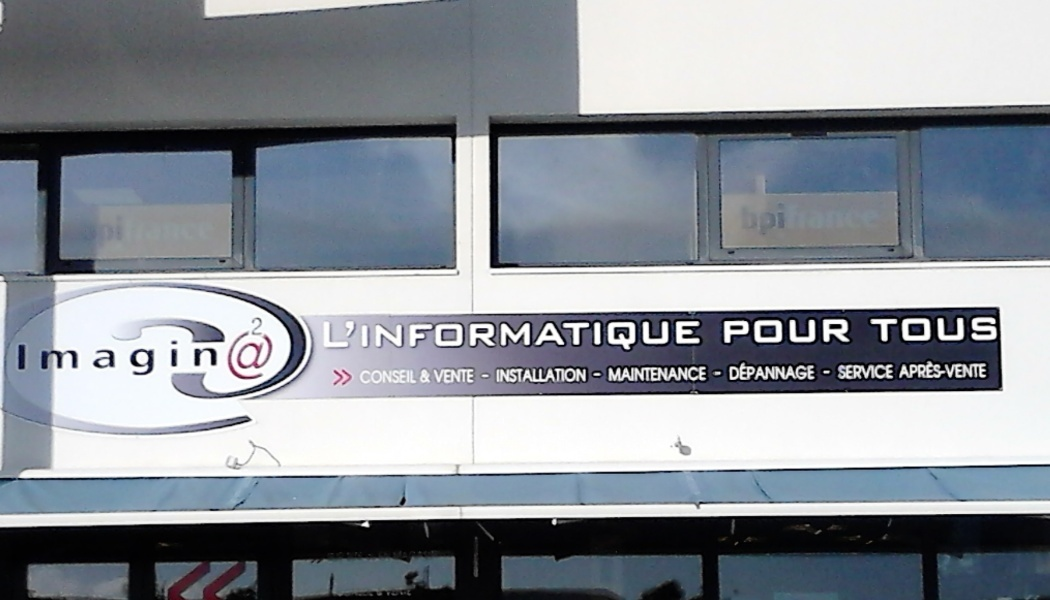text: (241, 333, 256, 385), (257, 333, 272, 385), (226, 333, 240, 385), (753, 196, 768, 238), (769, 196, 784, 238), (785, 196, 800, 238), (801, 196, 816, 238), (817, 196, 832, 238), (833, 196, 848, 238), (849, 196, 864, 238), (865, 196, 880, 238), (17, 341, 32, 381), (33, 341, 48, 381), (49, 341, 64, 381), (65, 341, 80, 381), (81, 341, 96, 381), (97, 341, 112, 381), (113, 341, 128, 381), (129, 341, 144, 381), (145, 341, 160, 381), (161, 341, 176, 381), (177, 341, 192, 381), (193, 341, 208, 381), (738, 196, 752, 238), (321, 316, 336, 351), (337, 316, 352, 351), (353, 316, 368, 351), (369, 316, 384, 351), (385, 316, 400, 351), (401, 316, 416, 351), (417, 316, 432, 351), (433, 316, 448, 351), (449, 316, 464, 351), (465, 316, 480, 351), (481, 316, 496, 351), (497, 316, 512, 351), (513, 316, 528, 351), (529, 316, 544, 351), (545, 316, 560, 351), (561, 316, 576, 351), (577, 316, 592, 351), (593, 316, 608, 351), (609, 316, 624, 351), (625, 316, 640, 351), (641, 316, 656, 351), (657, 316, 672, 351), (673, 316, 688, 351), (689, 316, 704, 351), (209, 341, 222, 381), (721, 317, 736, 346), (737, 317, 752, 346), (753, 317, 768, 346), (769, 317, 784, 346), (785, 317, 800, 346), (801, 317, 816, 346), (817, 317, 832, 346), (833, 317, 848, 346), (881, 196, 891, 238), (881, 315, 896, 342), (897, 315, 912, 342), (913, 315, 928, 342), (929, 315, 944, 342), (945, 315, 960, 342), (961, 315, 976, 342), (977, 315, 992, 342), (337, 364, 352, 390), (801, 358, 817, 382), (737, 358, 752, 382), (753, 358, 768, 382), (769, 358, 784, 382), (785, 358, 800, 382), (609, 363, 624, 385), (625, 363, 640, 385), (641, 363, 656, 385), (657, 363, 672, 385), (673, 363, 688, 385), (689, 363, 704, 385), (897, 359, 912, 381), (913, 359, 928, 381), (929, 359, 944, 381), (945, 359, 960, 381), (961, 359, 976, 381), (869, 315, 880, 342), (433, 366, 448, 385), (449, 366, 464, 385), (244, 315, 256, 338), (820, 361, 832, 384), (497, 366, 512, 384), (513, 366, 528, 384), (529, 366, 544, 384), (545, 366, 560, 384), (561, 366, 576, 384), (849, 363, 864, 381), (865, 363, 880, 381), (977, 359, 989, 381), (419, 366, 432, 386), (369, 368, 384, 385), (385, 368, 400, 385), (401, 368, 416, 385), (881, 363, 894, 381), (593, 364, 603, 386), (727, 358, 736, 382), (314, 316, 320, 351), (465, 366, 476, 385), (481, 366, 492, 385), (328, 364, 336, 390), (257, 315, 266, 338), (577, 366, 588, 384), (993, 315, 999, 342), (839, 363, 848, 381), (359, 368, 368, 385), (710, 365, 720, 380), (705, 363, 710, 385), (705, 316, 708, 351), (849, 317, 852, 346), (14, 341, 16, 381), (477, 366, 480, 385), (273, 333, 274, 385), (353, 364, 355, 390), (606, 363, 608, 385), (494, 366, 496, 384), (417, 368, 419, 385), (721, 365, 723, 380), (591, 364, 592, 386)
